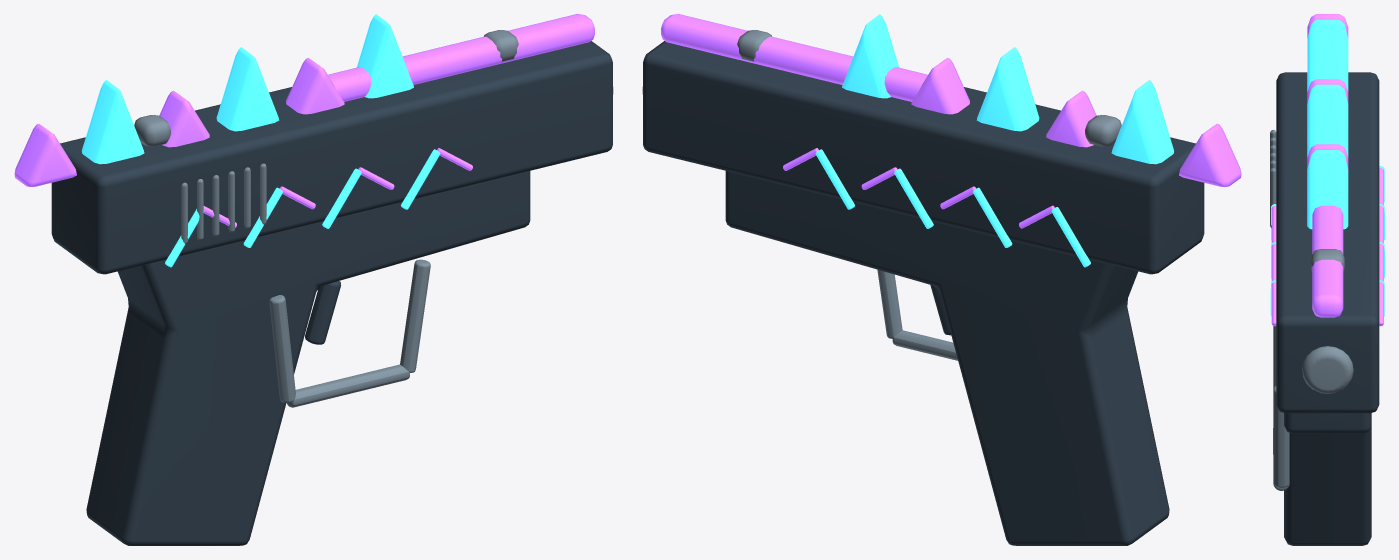
File: deagle.glb
The picture shows the model from 3 angles, left to right: view 1: azimuth 30°, elevation 25°; view 2: azimuth 150°, elevation 25°; view 3: azimuth 270°, elevation 25°; orthographic projection.
Parts seen in each view (by area): view 1: Lower frame.002, Slide.002, Barrel rib, Ice crest.019, Ice crest.021, Ice crest.023, Ice crest.018, Ice crest.022, Trigger guard.034, Trigger guard.035, Trigger guard.033, Ice crest.020 (+2 smaller); view 2: Lower frame.002, Slide.002, Barrel rib, Ice crest.019, Ice crest.021, Ice crest.023, Ice crest.018, Ice crest.022, Ice crest.020, Trigger guard.035, Trigger guard.034, Iron sight.004; view 3: Slide.002, Lower frame.002, Barrel rib, Ice crest.023, Ice crest.019, Ice crest.021, Muzzle.009, Trigger guard.035, Iron sight.005, Ice crest.022, Ice crest.018, Ice crest.020 (+9 smaller).
Part boxes in pixels (<box>): Lower frame.002: <box>86,171,530,545</box>; Slide.002: <box>51,41,612,274</box>; Barrel rib: <box>328,14,594,101</box>; Ice crest.019: <box>82,80,144,164</box>; Ice crest.021: <box>216,47,279,131</box>; Ice crest.023: <box>356,14,413,98</box>; Ice crest.018: <box>14,123,76,186</box>; Ice crest.022: <box>286,58,344,114</box>; Trigger guard.034: <box>287,364,409,407</box>; Trigger guard.035: <box>400,259,430,372</box>; Trigger guard.033: <box>269,295,295,402</box>; Ice crest.020: <box>159,90,209,147</box>; Lower frame.002: <box>725,171,1169,545</box>; Slide.002: <box>643,41,1204,274</box>; Barrel rib: <box>661,14,927,101</box>; Ice crest.019: <box>1111,80,1173,164</box>; Ice crest.021: <box>976,47,1039,131</box>; Ice crest.023: <box>842,14,899,98</box>; Ice crest.018: <box>1179,123,1241,186</box>; Ice crest.022: <box>911,58,969,114</box>; Ice crest.020: <box>1046,90,1096,147</box>; Trigger guard.035: <box>877,269,902,338</box>; Trigger guard.034: <box>892,330,957,360</box>; Iron sight.004: <box>1085,115,1121,146</box>; Slide.002: <box>1276,72,1379,413</box>; Lower frame.002: <box>1284,413,1371,545</box>; Barrel rib: <box>1312,205,1343,317</box>; Ice crest.023: <box>1307,150,1348,229</box>; Ice crest.019: <box>1307,19,1348,91</box>; Ice crest.021: <box>1307,84,1348,156</box>; Muzzle.009: <box>1302,346,1353,393</box>; Trigger guard.035: <box>1273,385,1289,487</box>; Iron sight.005: <box>1311,249,1344,271</box>; Ice crest.022: <box>1307,144,1348,168</box>; Ice crest.018: <box>1307,14,1348,37</box>; Ice crest.020: <box>1307,79,1348,103</box>.
Bounding box in the file's own units: 2.6 × 2.02 × 0.4464.
